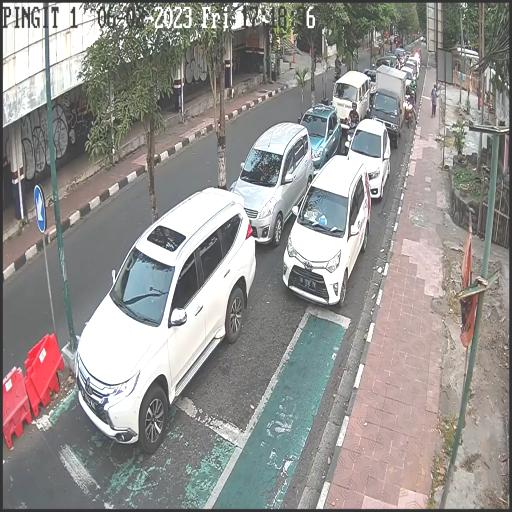mobil: (72, 186, 258, 446), (283, 155, 373, 315), (231, 121, 314, 242), (348, 121, 390, 203), (297, 104, 342, 176), (332, 66, 370, 133), (373, 79, 403, 150)
motor: (344, 117, 356, 159), (406, 99, 415, 133)
